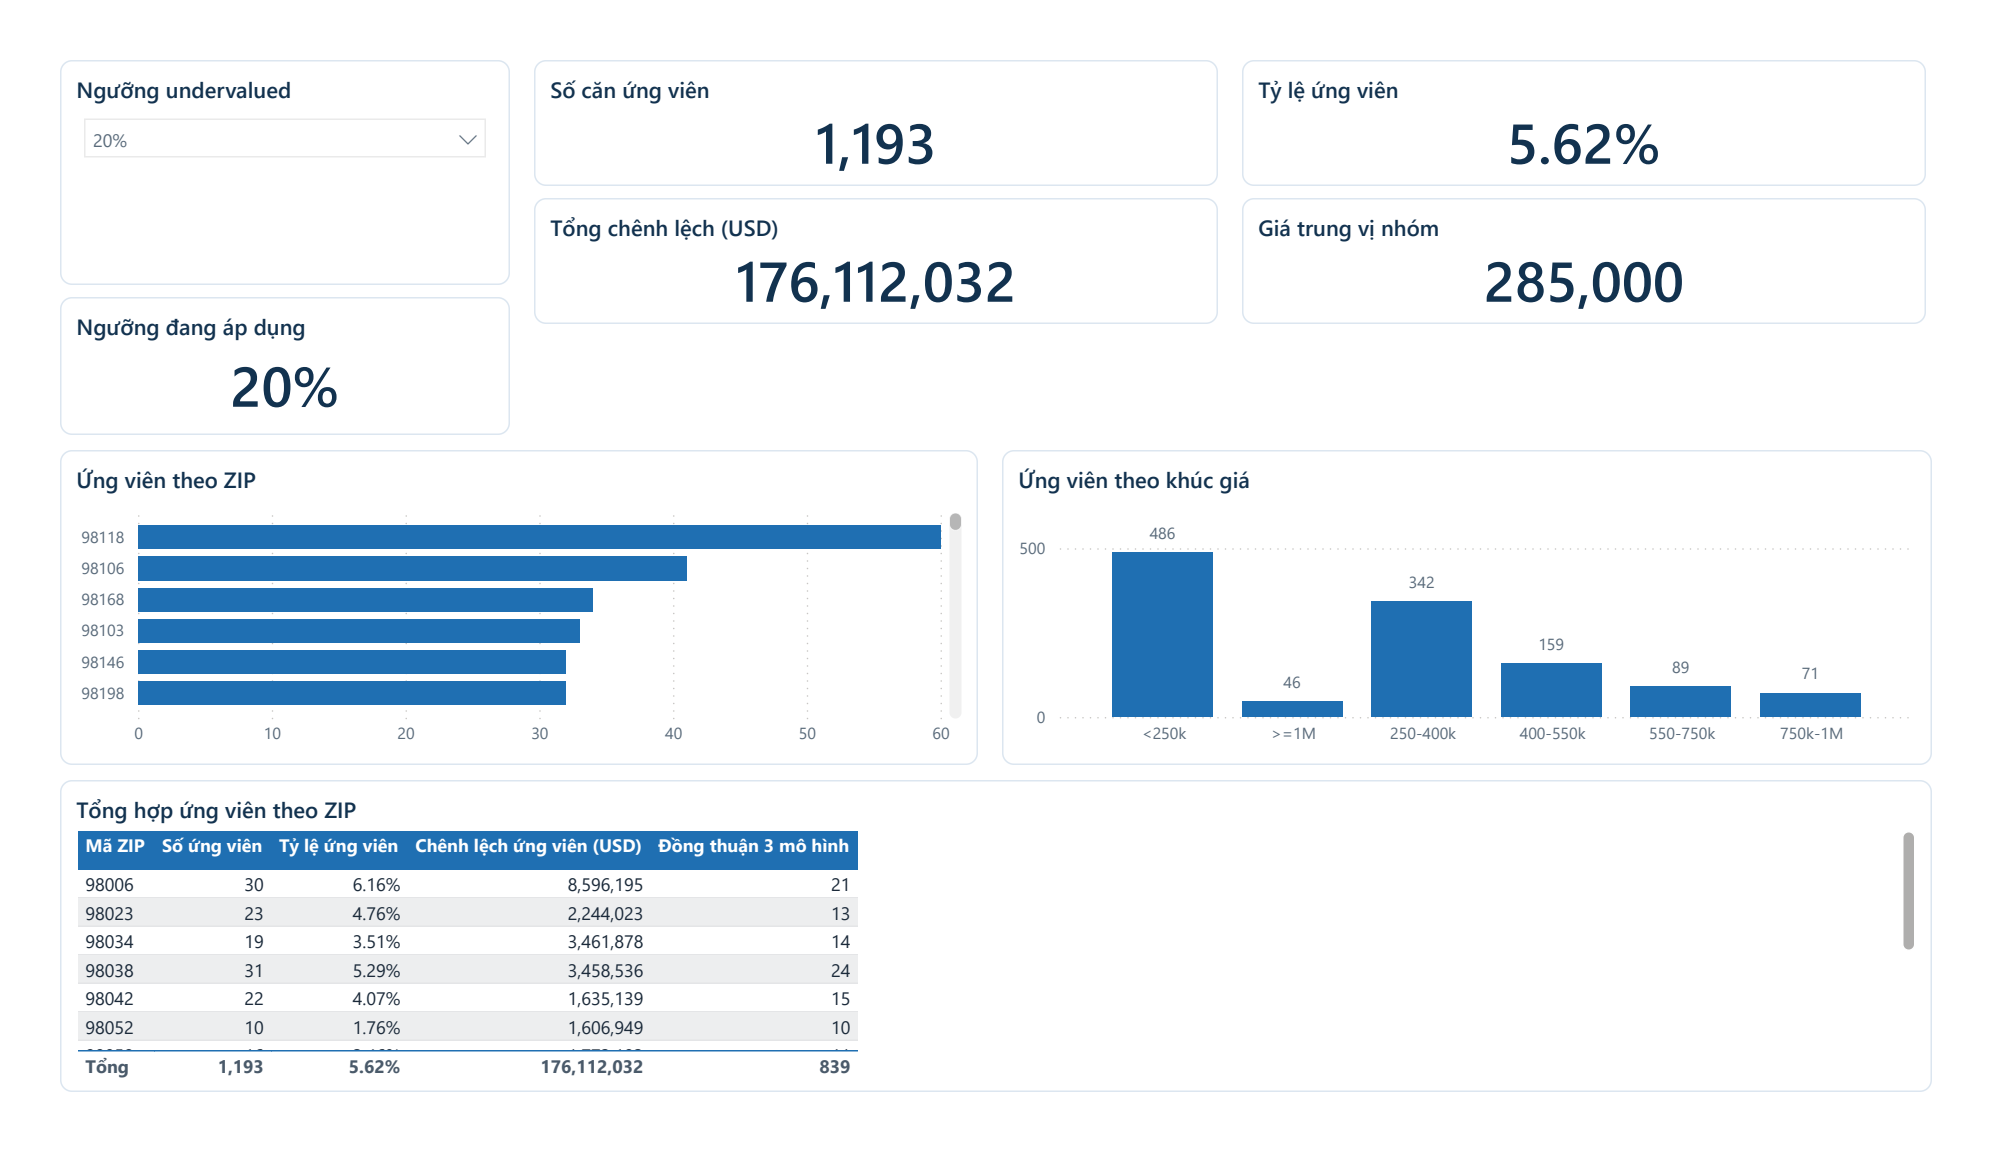

Layout of this report page (visuals, bound fields, positions):
{"tool":"powerbi","page":{"name":"2. What-if ngưỡng undervalued","canvas":[1280,720],"ordinal":1},"visuals":[{"type":"slicer","title":"Ngưỡng undervalued","fields":{"Values":["Nguong.Value"]},"box":[16,16,300,150],"z":1},{"type":"card","title":"Số căn ứng viên","fields":{"Values":["KPI.Candidates Text"]},"box":[332,16,456,84],"z":1},{"type":"card","title":"Tỷ lệ ứng viên","fields":{"Values":["KPI.Tỷ lệ ứng viên"]},"box":[804,16,456,84],"z":1},{"type":"card","title":"Tổng chênh lệch (USD)","fields":{"Values":["KPI.CandidateUpside Text"]},"box":[332,108,456,84],"z":1},{"type":"card","title":"Giá trung vị nhóm","fields":{"Values":["KPI.CandidateMedian Text"]},"box":[804,108,456,84],"z":1},{"type":"card","title":"Ngưỡng đang áp dụng","fields":{"Values":["KPI.Ngưỡng (%)"]},"box":[16,174,300,92],"z":1},{"type":"barChart","title":"Ứng viên theo ZIP","fields":{"Category":["KingSales.ZIP"],"Y":["KPI.Số ứng viên"]},"box":[16,276,612,210],"z":1},{"type":"clusteredColumnChart","title":"Ứng viên theo khúc giá","fields":{"Category":["KingSales.Khúc giá"],"Y":["KPI.Số ứng viên"]},"box":[644,276,620,210],"z":1},{"type":"tableEx","title":"Tổng hợp ứng viên theo ZIP","fields":{"Values":["KingSales.Mã ZIP","KPI.Số ứng viên","KPI.Tỷ lệ ứng viên","KPI.Chênh lệch ứng viên (USD)","KPI.Đồng thuận 3 mô hình"]},"box":[16,496,1248,208],"z":1}]}

Visuals, with their boxes in screenshot pixels (x1, y1, x2, y2), scaled from the page's 1280x720 canvas onto the 1992x1152 screenshot:
"Ngưỡng undervalued" slicer: locate(25, 26, 492, 266)
"Số căn ứng viên" card: locate(517, 26, 1226, 160)
"Tỷ lệ ứng viên" card: locate(1251, 26, 1961, 160)
"Tổng chênh lệch (USD)" card: locate(517, 173, 1226, 307)
"Giá trung vị nhóm" card: locate(1251, 173, 1961, 307)
"Ngưỡng đang áp dụng" card: locate(25, 278, 492, 426)
"Ứng viên theo ZIP" barChart: locate(25, 442, 977, 778)
"Ứng viên theo khúc giá" clusteredColumnChart: locate(1002, 442, 1967, 778)
"Tổng hợp ứng viên theo ZIP" tableEx: locate(25, 794, 1967, 1126)
